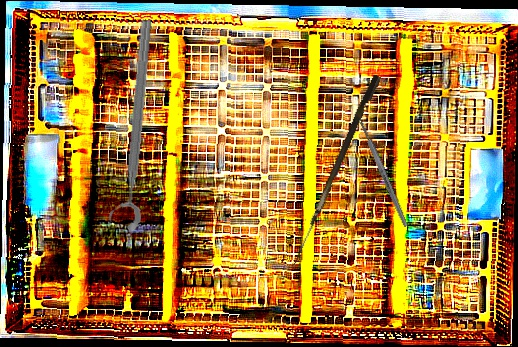Fixation Ring: (105, 17, 159, 233)
Hook Surgical: (291, 72, 382, 272)
Scalpel Handle: (358, 120, 409, 228)
